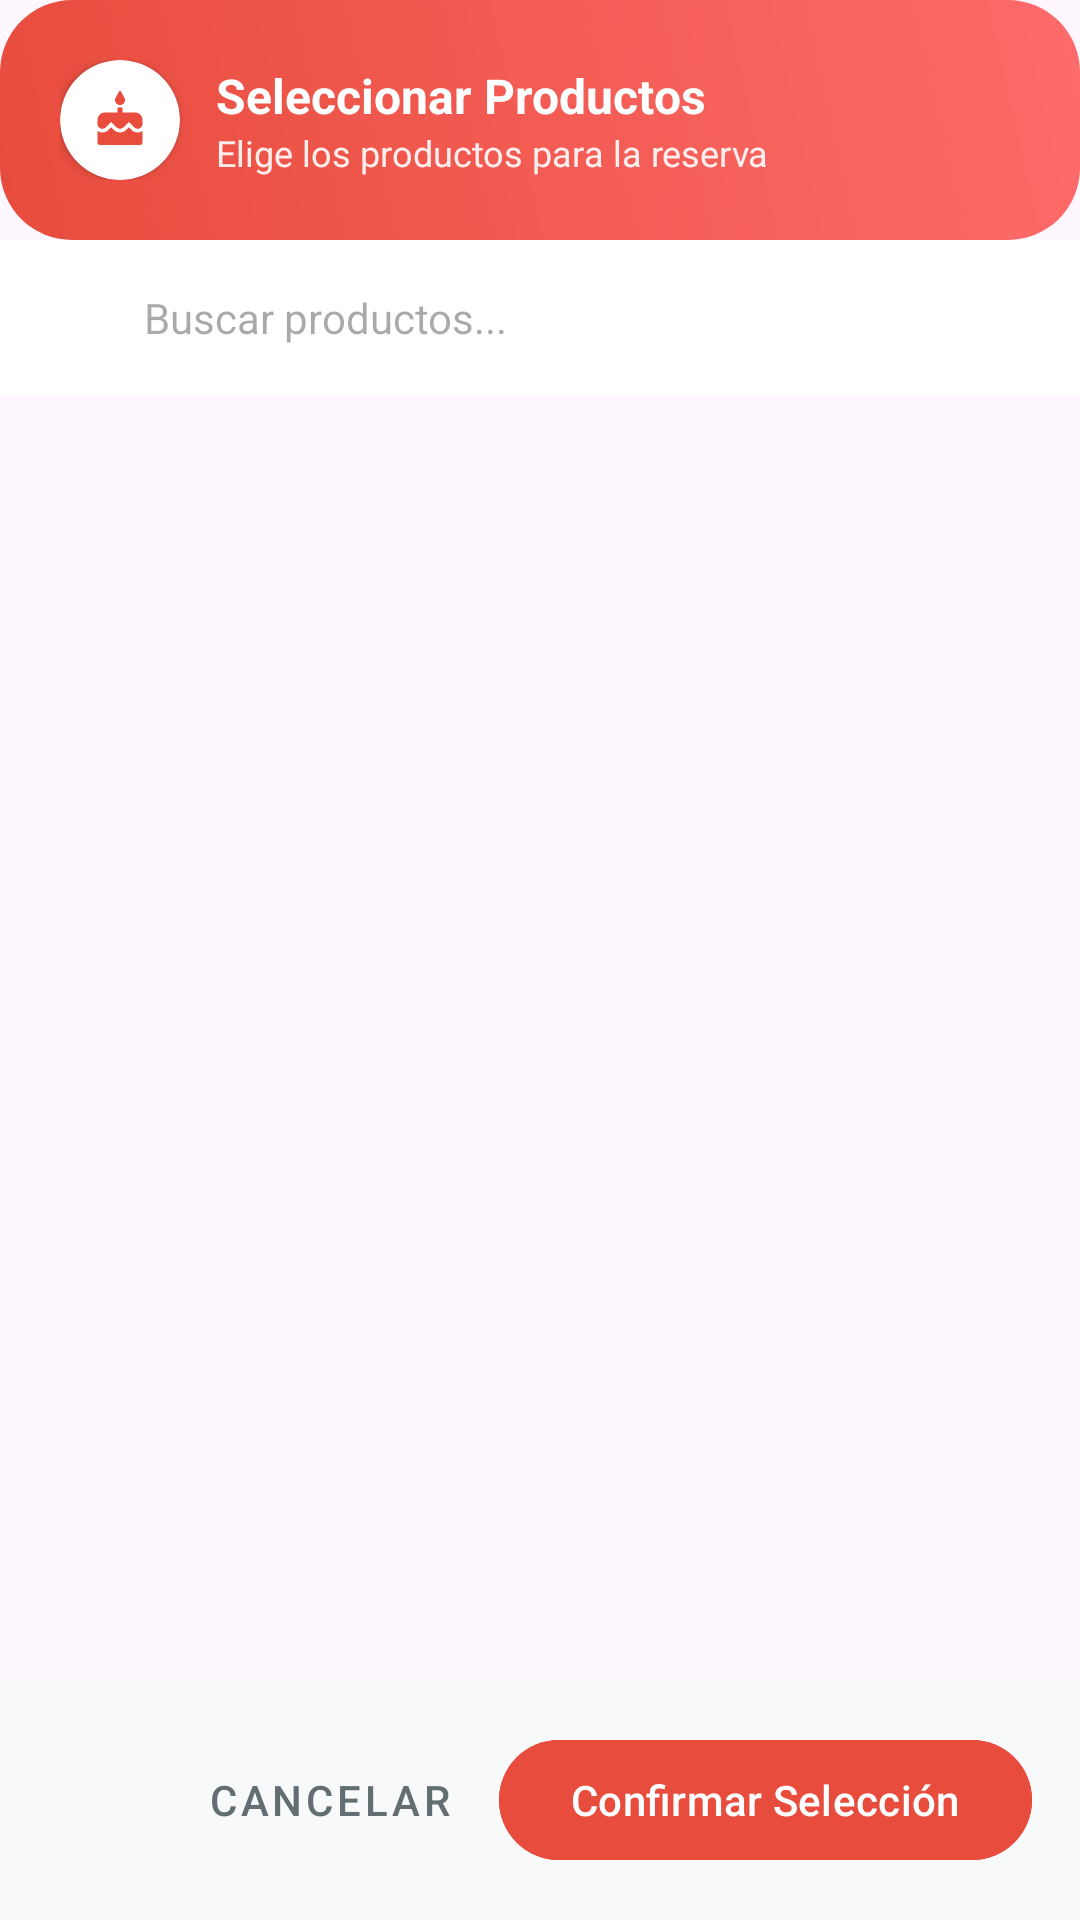

Point at icon controls on the screen. Image size 1080*1920, points as (x=x, y=y).
cake: (x=120, y=117)
